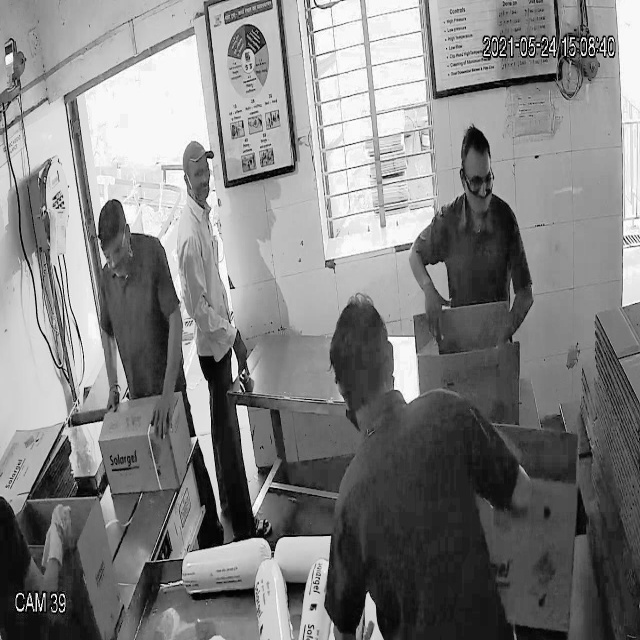Gafas: (456, 159, 497, 196), (100, 236, 131, 265)
Sin_gafas: (181, 164, 214, 186)
